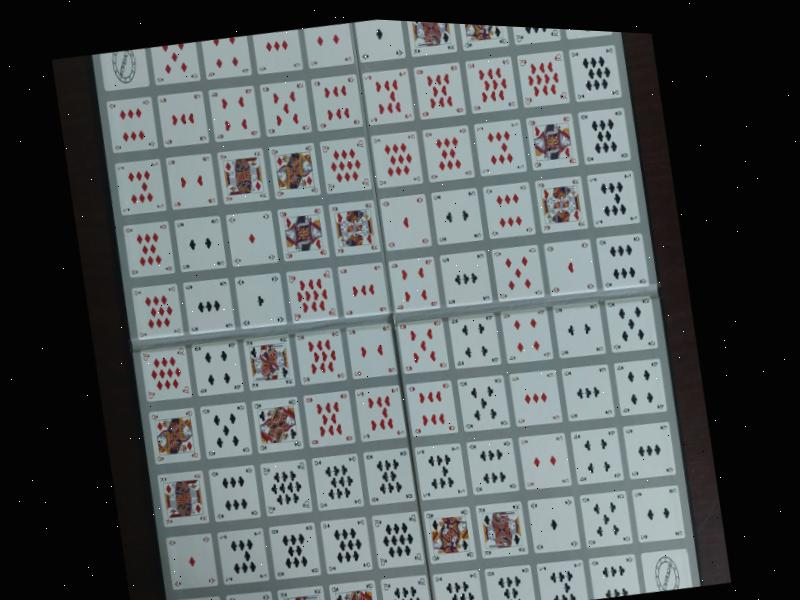Board: (81, 19, 705, 600)
